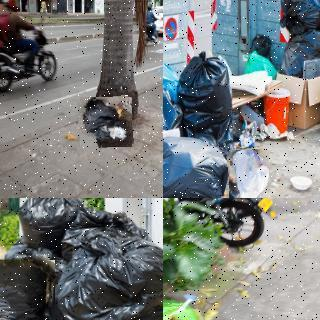Garbage: (50, 243, 163, 320), (176, 54, 239, 142), (163, 137, 228, 198), (0, 257, 58, 320), (20, 198, 87, 242), (79, 96, 133, 149), (227, 149, 270, 198), (280, 29, 320, 77), (273, 0, 320, 31), (241, 50, 281, 84), (163, 291, 206, 320), (163, 66, 180, 137)
